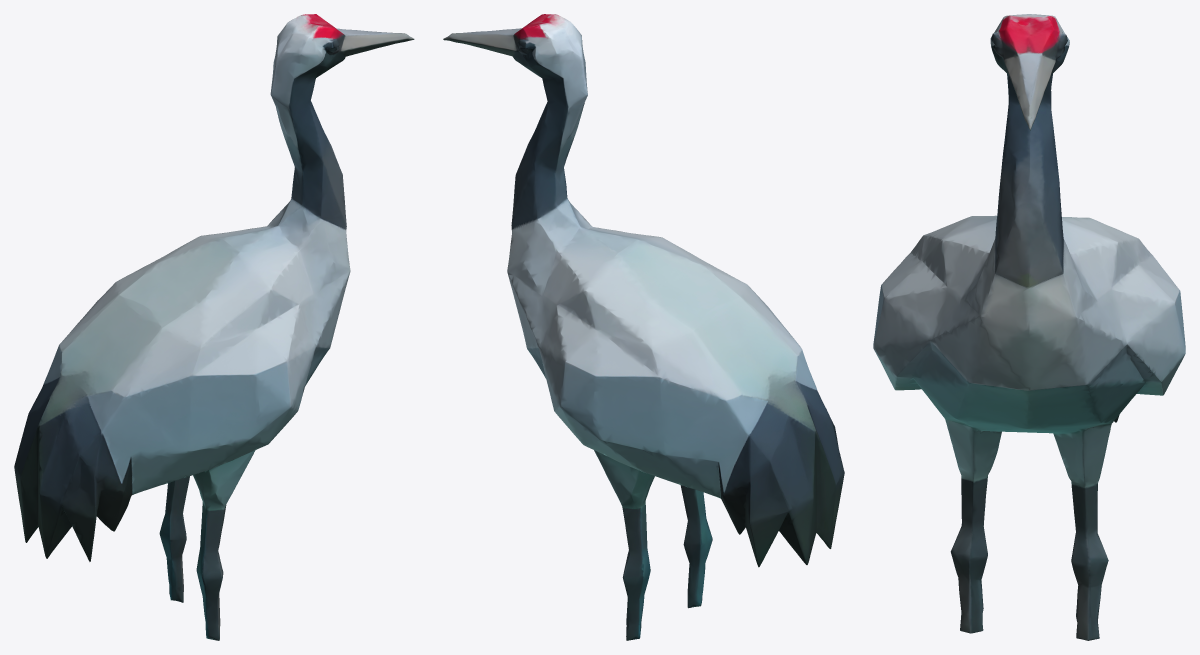
The model's file is crane.glb.
3 renders of one model, left to right at view 1: azimuth 30°, elevation 25°; view 2: azimuth 150°, elevation 25°; view 3: azimuth 270°, elevation 25°, orthographic. The views are drawn at different scales.
Visible parts, largest first — view 1: tripo_node_87af6fb9-b8a9-416c-9347-47cd5bb67fa2; view 2: tripo_node_87af6fb9-b8a9-416c-9347-47cd5bb67fa2; view 3: tripo_node_87af6fb9-b8a9-416c-9347-47cd5bb67fa2.
Boxes of the visible parts, x1=… form: tripo_node_87af6fb9-b8a9-416c-9347-47cd5bb67fa2: x1=14, y1=14, x2=414, y2=640; tripo_node_87af6fb9-b8a9-416c-9347-47cd5bb67fa2: x1=443, y1=14, x2=844, y2=640; tripo_node_87af6fb9-b8a9-416c-9347-47cd5bb67fa2: x1=873, y1=14, x2=1185, y2=640.
Size of the model in its own units: 0.7023 by 1 by 0.4128.
Materials: 1 (1 with a texture image).
